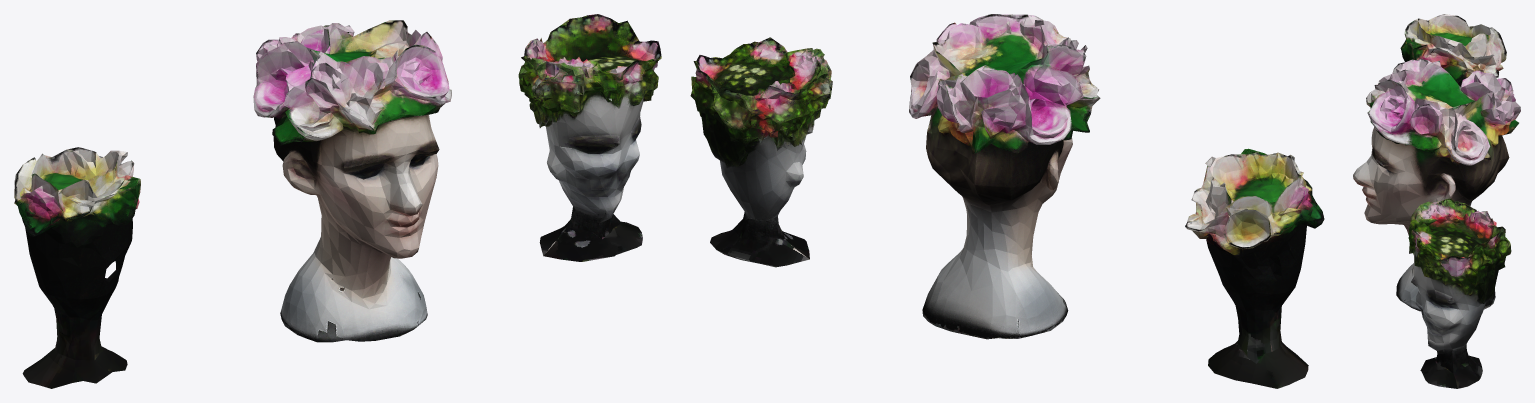
File: trellis_result.glb
3 views of the same model, side by side, from view 1: azimuth 30°, elevation 25°; view 2: azimuth 150°, elevation 25°; view 3: azimuth 270°, elevation 25° (orthographic). The views are drawn at different scales.
Parts seen in each view (by area): view 1: world; view 2: world; view 3: world.
Boxes of the visible parts, x1,y1,x2,y2 form: world: (14,14,661,388); world: (690,14,1324,388); world: (1353,14,1520,388).
Bounding box in the file's own units: 0.9928 × 0.4224 × 0.2987.
1 material, 1 textured.
